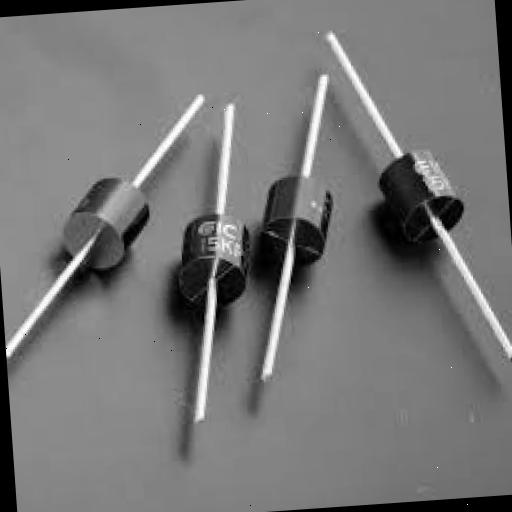DIODE: (4, 156, 180, 324), (351, 125, 476, 280), (134, 186, 262, 324), (238, 164, 347, 309)
